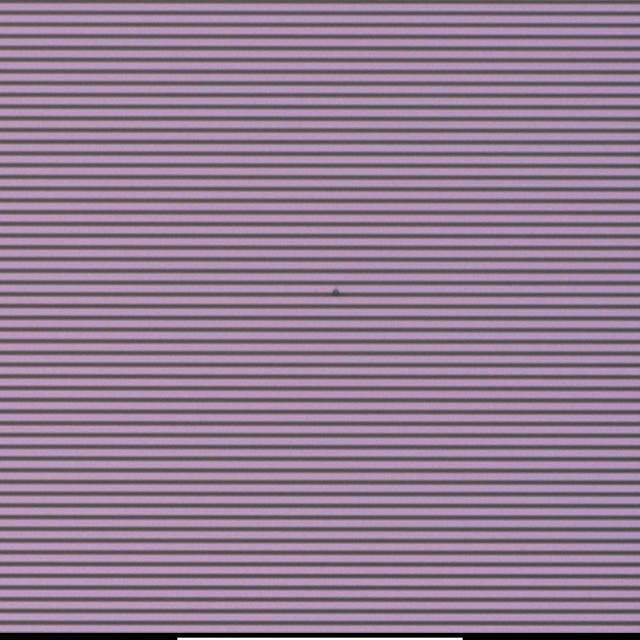03_intrusion: (329, 282, 343, 300)
